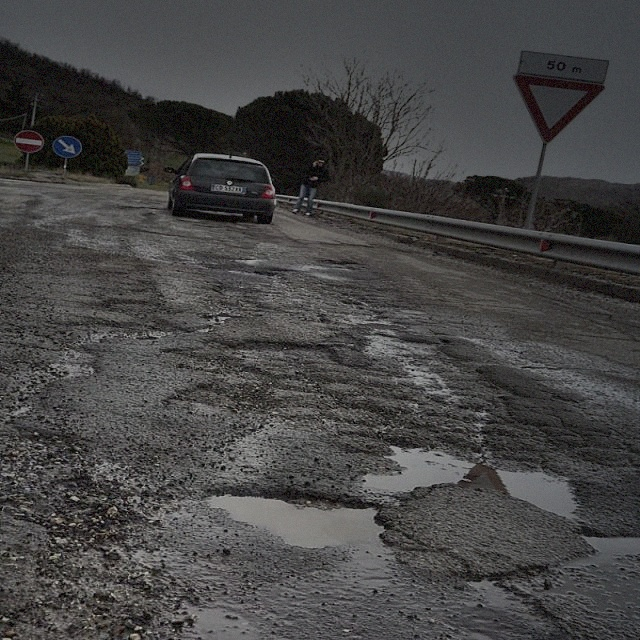pothole: (371, 426, 580, 530), (196, 473, 387, 563), (253, 260, 296, 286), (126, 322, 163, 348)
